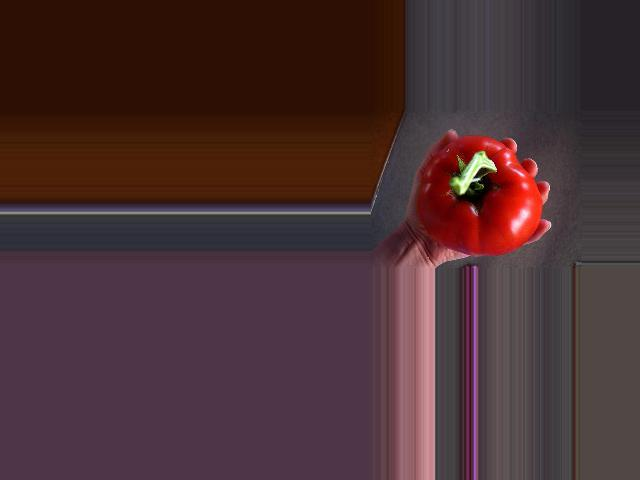tomato: (417, 135, 542, 256)
